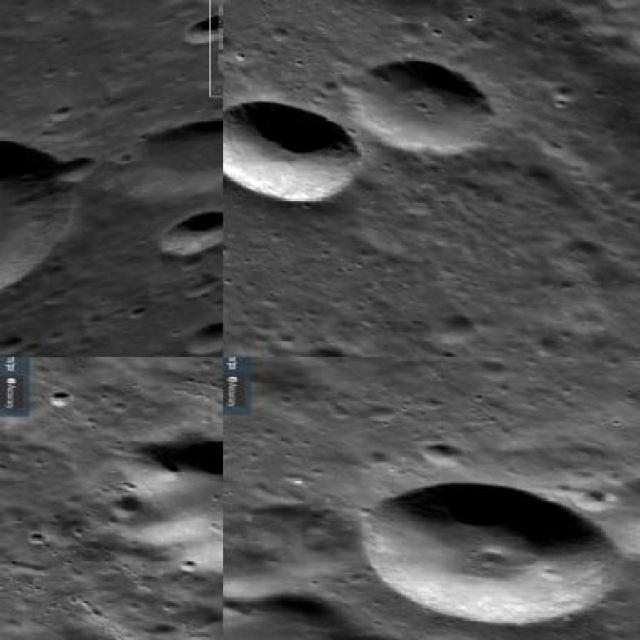crater: (365, 483, 617, 628), (0, 134, 80, 355), (110, 437, 222, 574), (223, 100, 362, 206), (344, 63, 496, 155), (134, 119, 221, 190), (598, 474, 638, 561), (160, 211, 222, 258), (184, 323, 222, 355), (54, 157, 97, 180)
